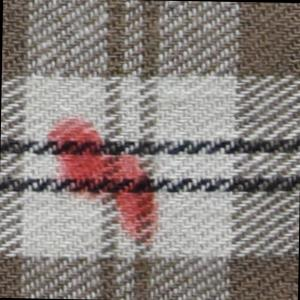Stain: (38, 113, 168, 249)
